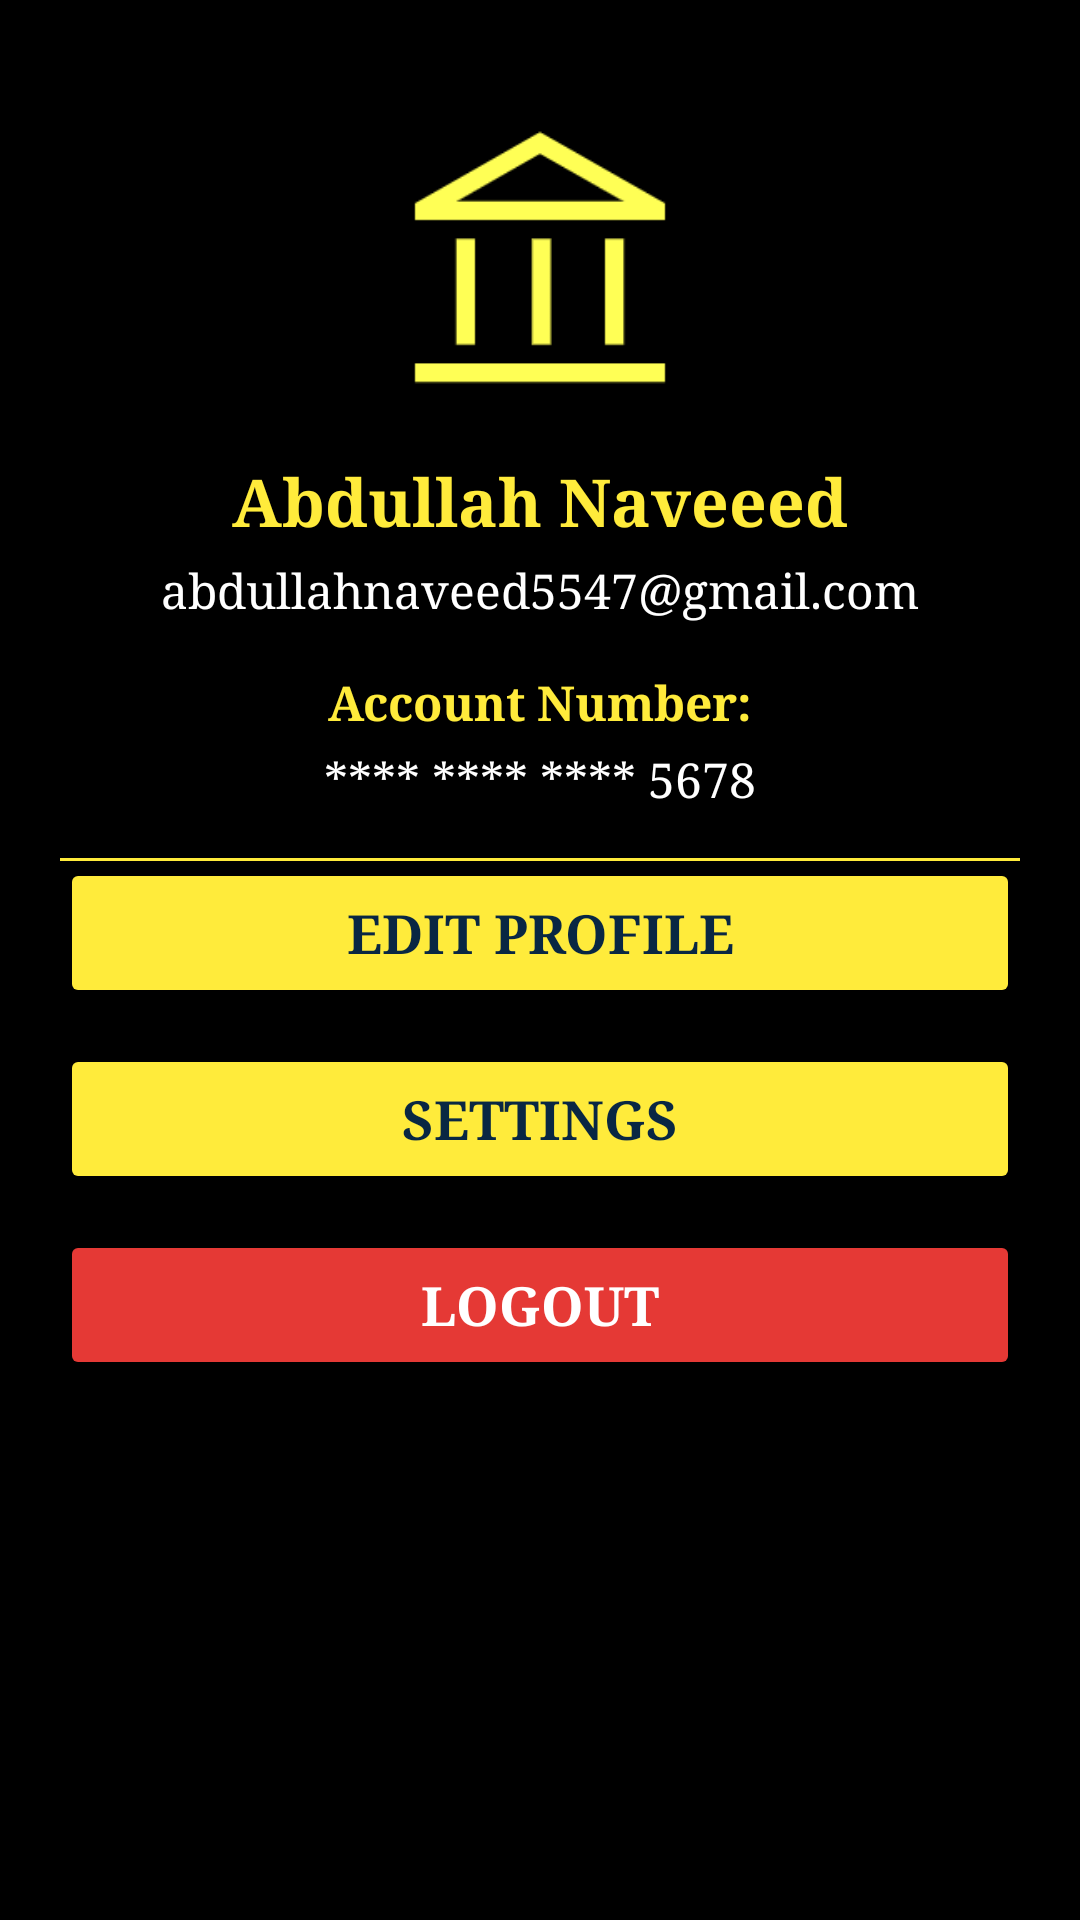

Icons on this 1080w x 1920h Android screen, each with the point to tap as point (x, y):
bank: point (540, 257)
